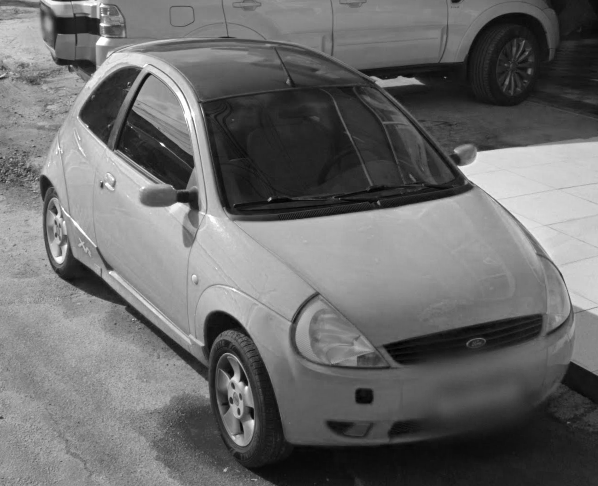car: (40, 38, 575, 466)
